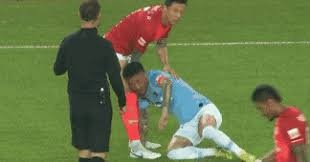falling: (237, 75, 309, 160)
